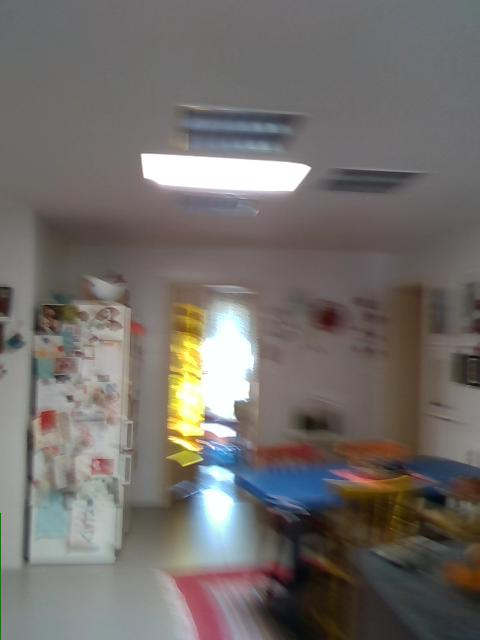semi_door: (158, 276, 264, 509)
